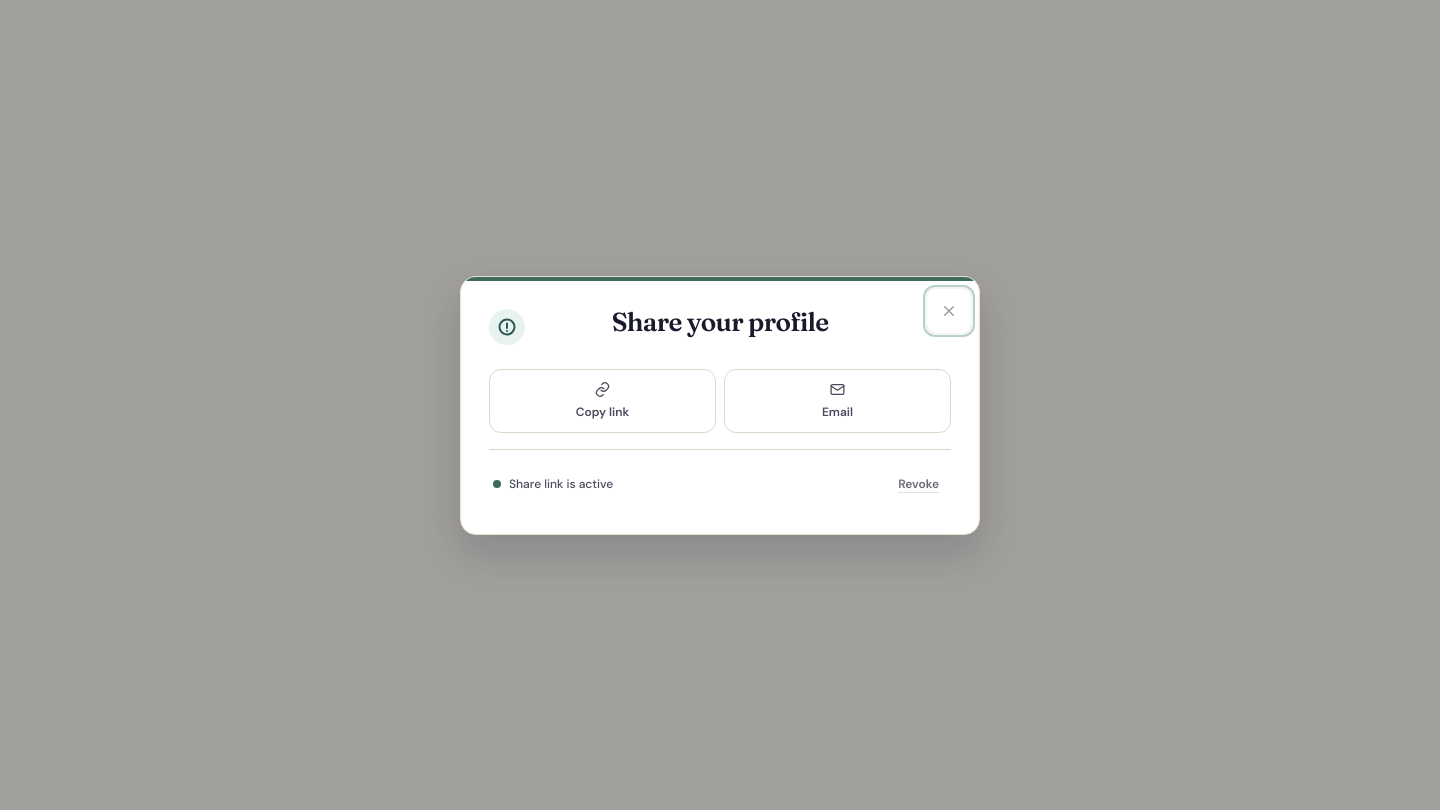
Test: ShareModal › offers revocation for a share that lives on an older result (no current token)
Expected: the text "Share link is active" is shown, [493,476,613,492]
Click the button "Revoke" at (919, 484), box [890,464,947,504]
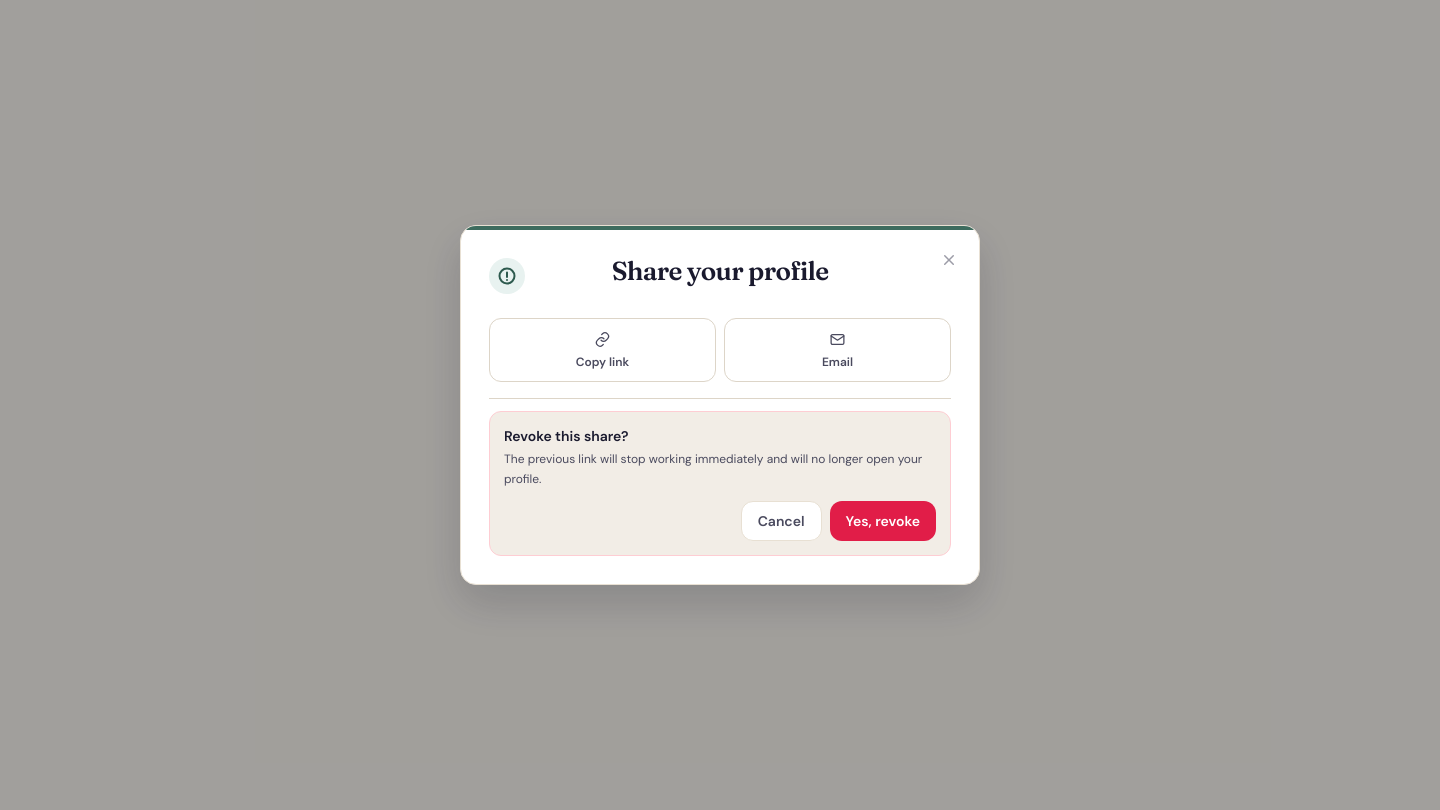
Click the button "Yes, revoke" at (883, 521), box [830,501,936,541]
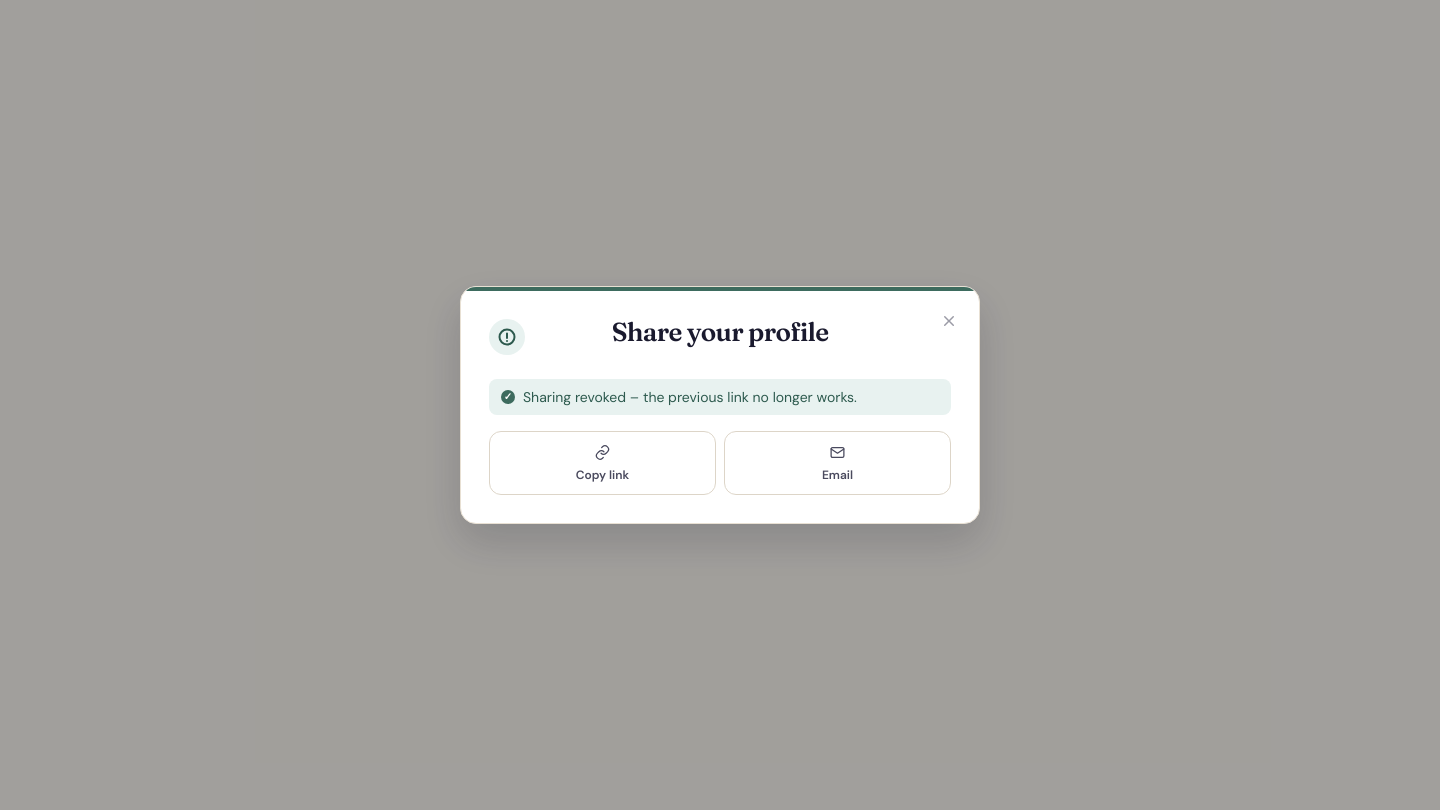
Expected: the text "Share link is active" is not shown
Expected: the text "Sharing revoked – the previous link no longer works." is shown, [523,388,857,406]
